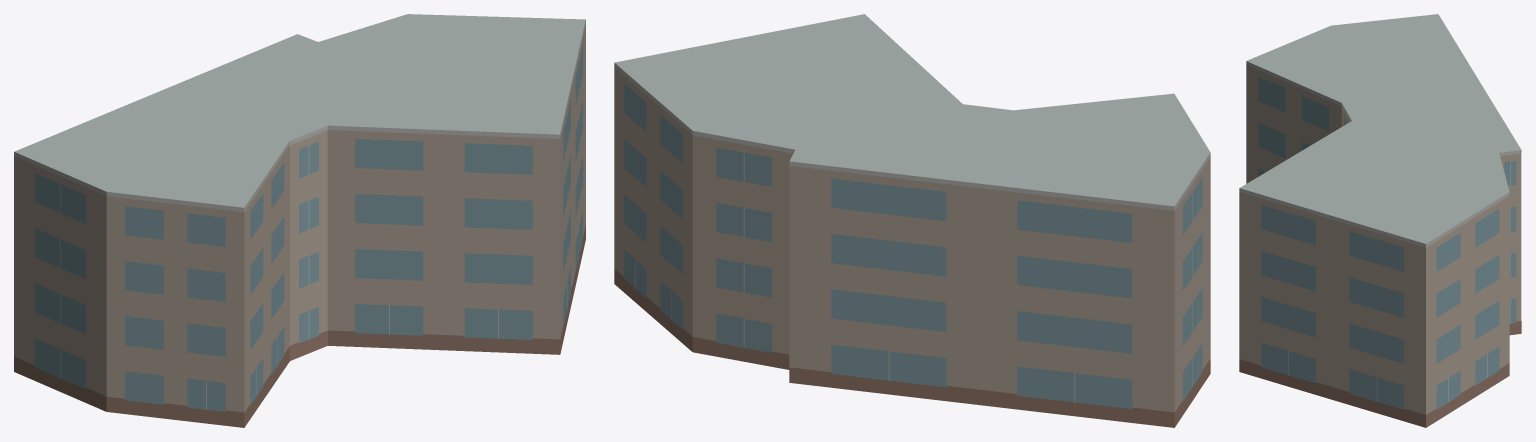
Rendered from survey-upis-32971349.glb.
The picture shows the model from 3 angles, left to right: view 1: azimuth 30°, elevation 25°; view 2: azimuth 150°, elevation 25°; view 3: azimuth 270°, elevation 25°; orthographic projection. The views are drawn at different scales.
Parts seen in each view (by area): view 1: survey-upis-32971349.tmp; view 2: survey-upis-32971349.tmp; view 3: survey-upis-32971349.tmp.
Boxes of the visible parts, x1,y1,x2,y2 form: survey-upis-32971349.tmp: [14, 14, 585, 427]; survey-upis-32971349.tmp: [614, 14, 1210, 427]; survey-upis-32971349.tmp: [1239, 14, 1521, 427].
Bounding box in the file's own units: 32.74 × 12.2 × 16.97.
